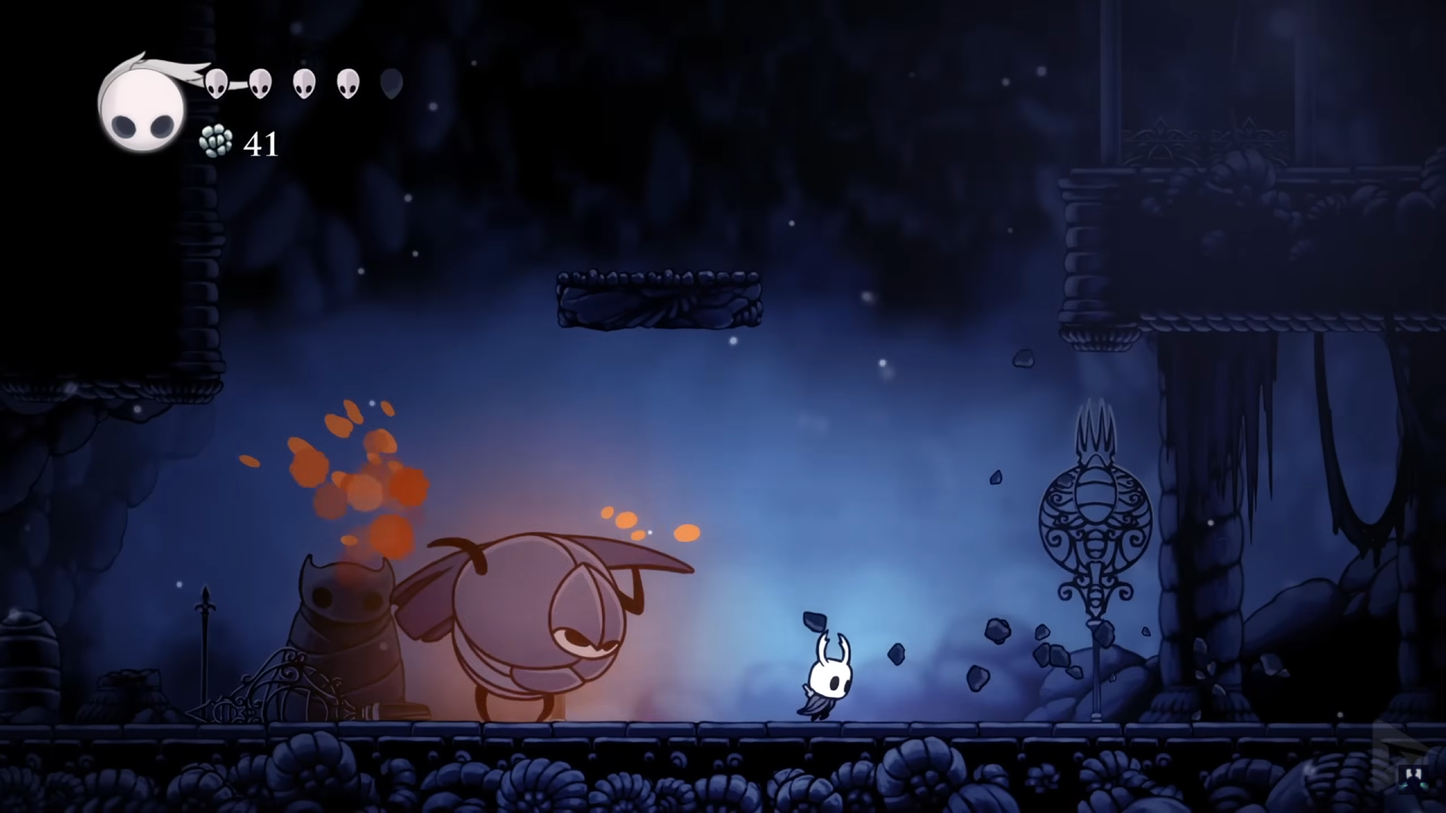HK: (794, 629, 858, 724)
